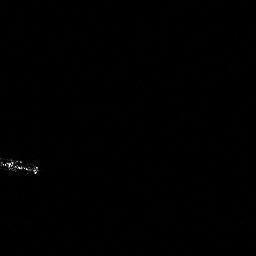ship: (1, 160, 50, 175)
